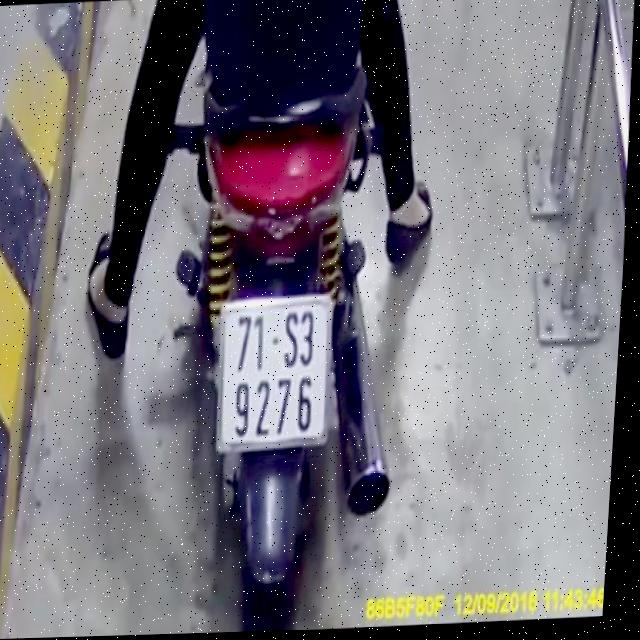motorcycle: (149, 61, 438, 634)
plate: (207, 287, 336, 456)
